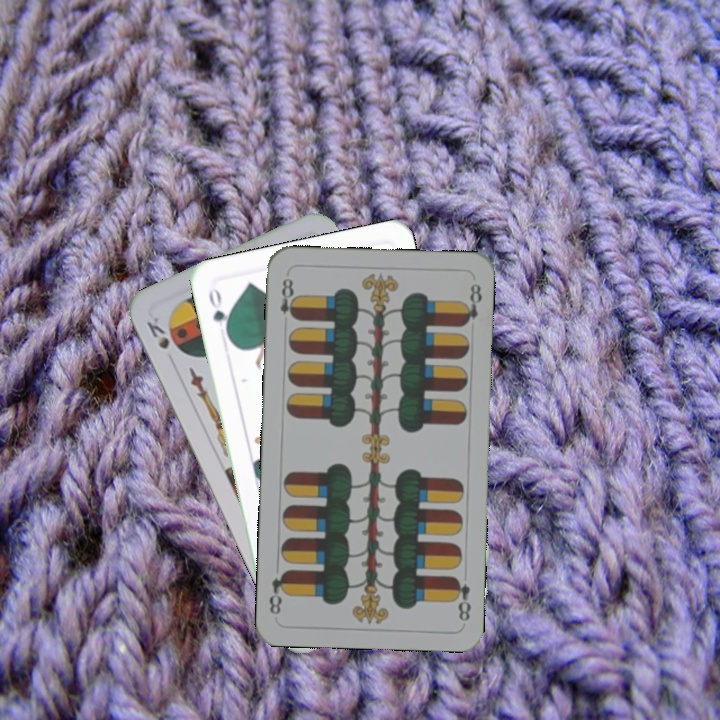E8: (449, 572, 474, 624), (276, 274, 299, 322)
GO: (204, 283, 232, 341)
SK: (142, 312, 172, 352)
